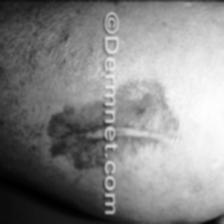Unclassified: (117, 80, 176, 163), (48, 104, 104, 170)
